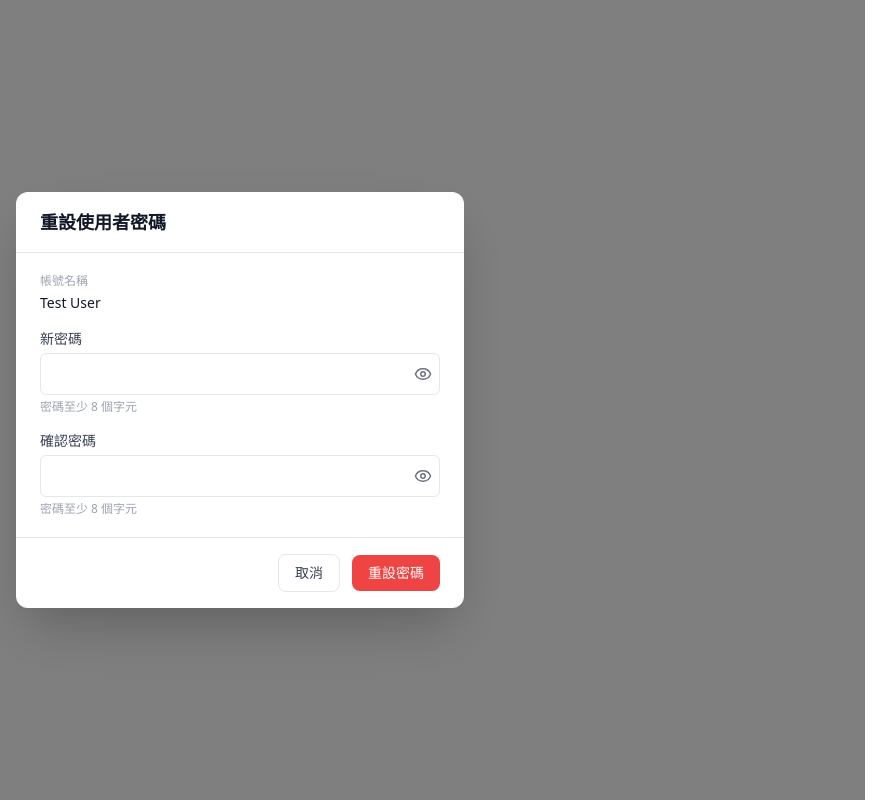
Test: ResetPasswordDialog › 密碼不足 8 字元時顯示錯誤
Type "short" into the password field labelled "新密碼" at (240, 374), box [40,353,440,395]
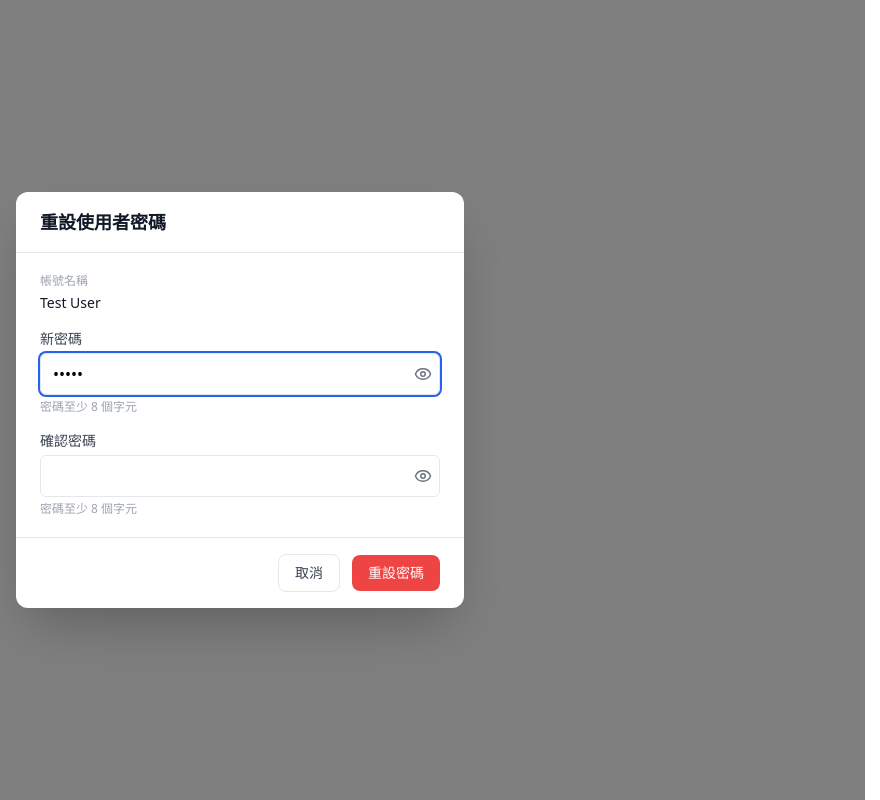
Type "short" into the password field labelled "確認密碼" at (240, 476), box [40,455,440,497]
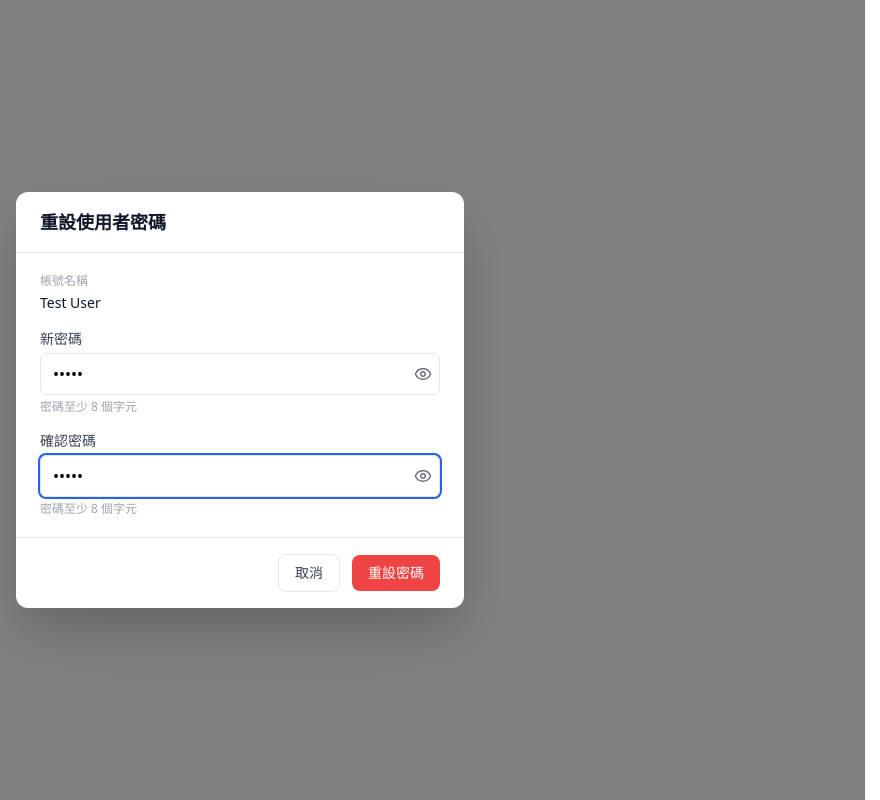
Click the button "重設密碼" at (396, 573), box [352,555,440,591]
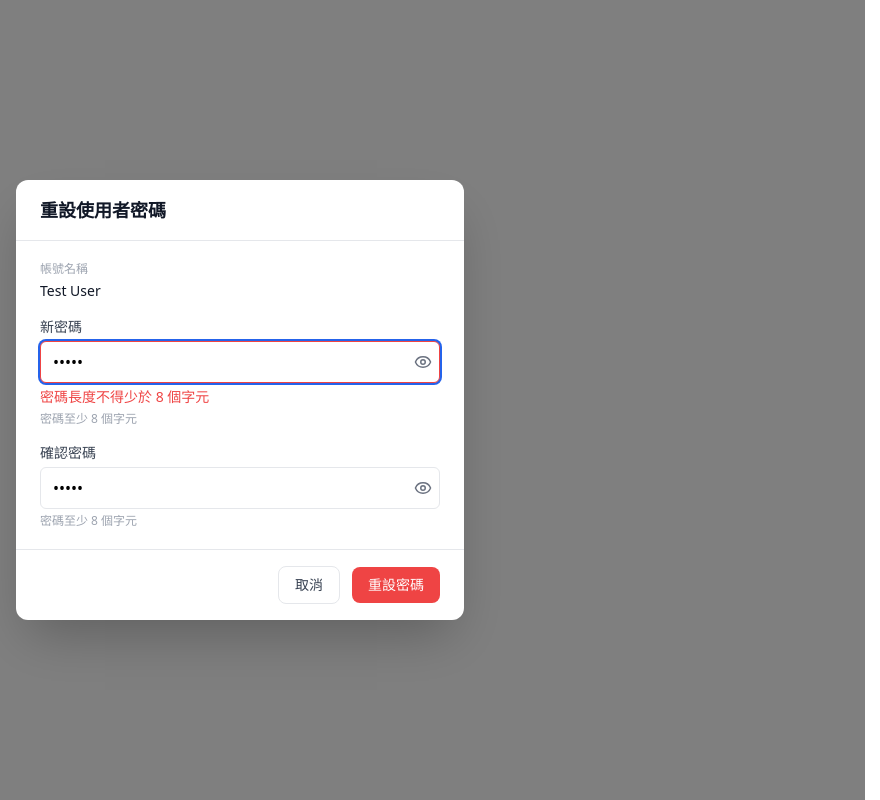
Now the text "密碼長度不得少於 8 個字元" is shown, box [40,387,209,406]
